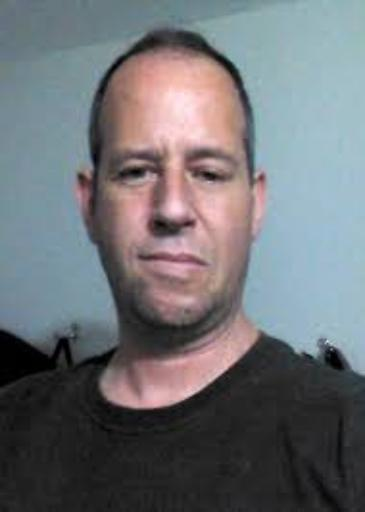left_eye: (191, 167, 231, 190)
left_lip_corner: (198, 258, 217, 274)
right_eye: (118, 164, 160, 188)
right_lip_corner: (132, 252, 153, 269)
